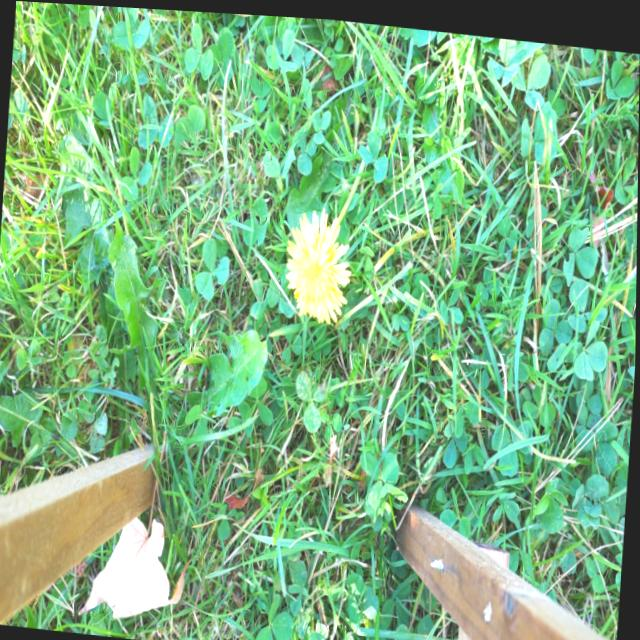base: (362, 118, 380, 149)
